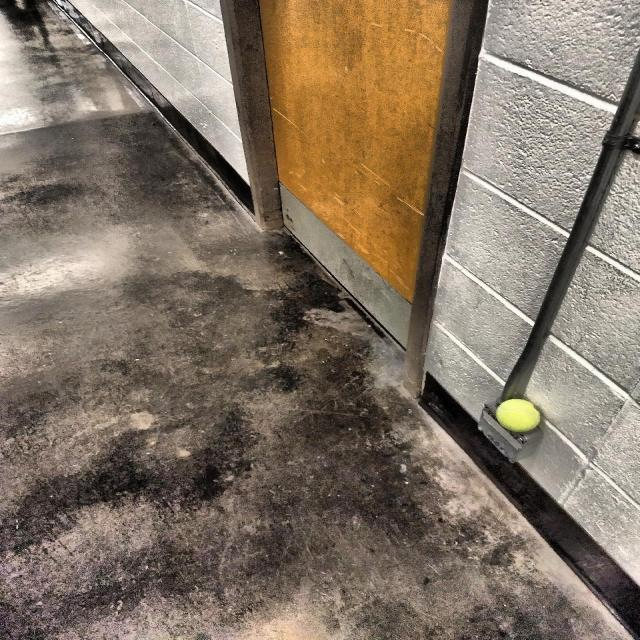tennis-ball: (490, 395, 546, 436)
